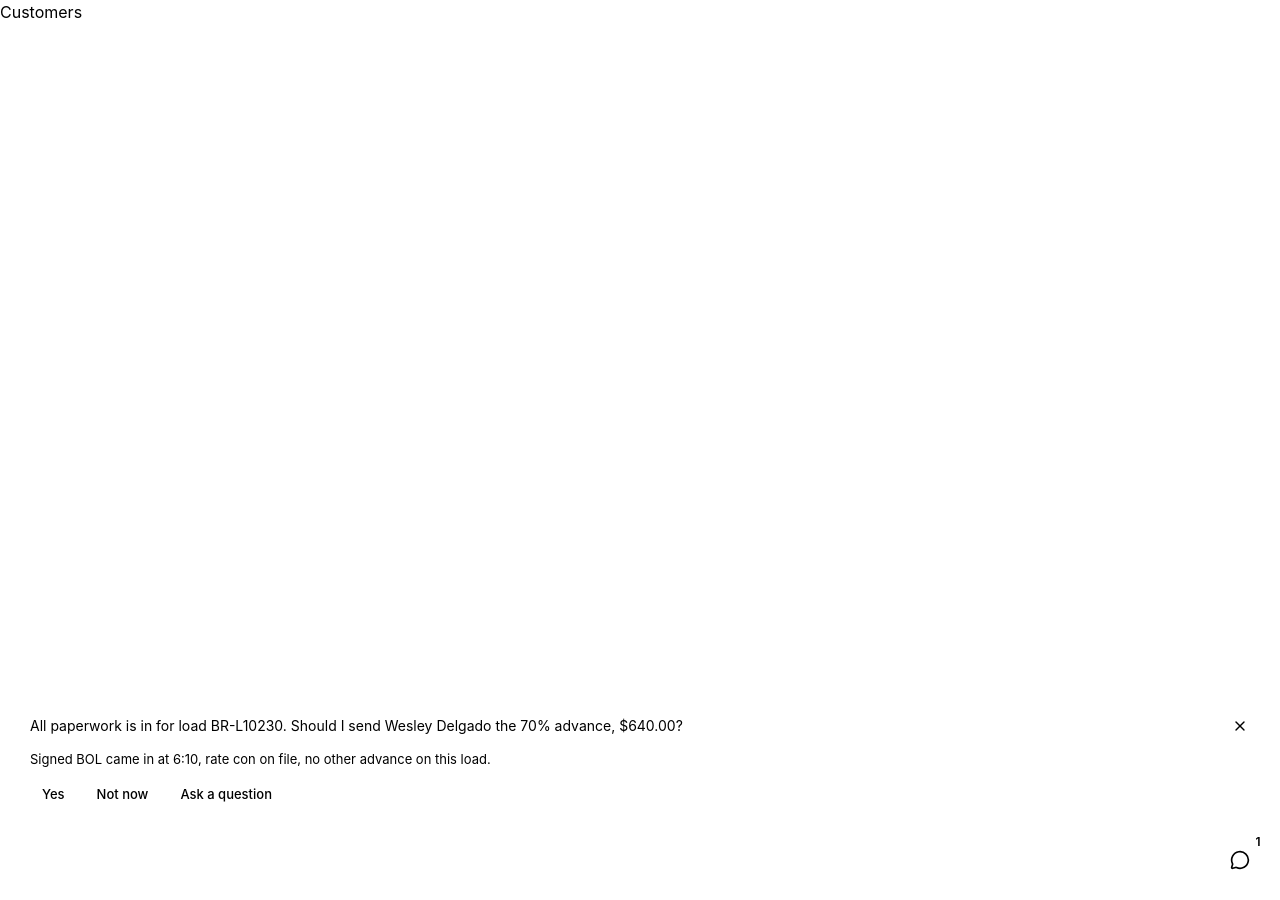
Test: the agent's questions on the launcher › opens the card on Ask a question with the load in the box, unsent
This screenshot has width=1280, height=900.
Click the button "Ask a question" at (226, 794), box [168,778,284,810]
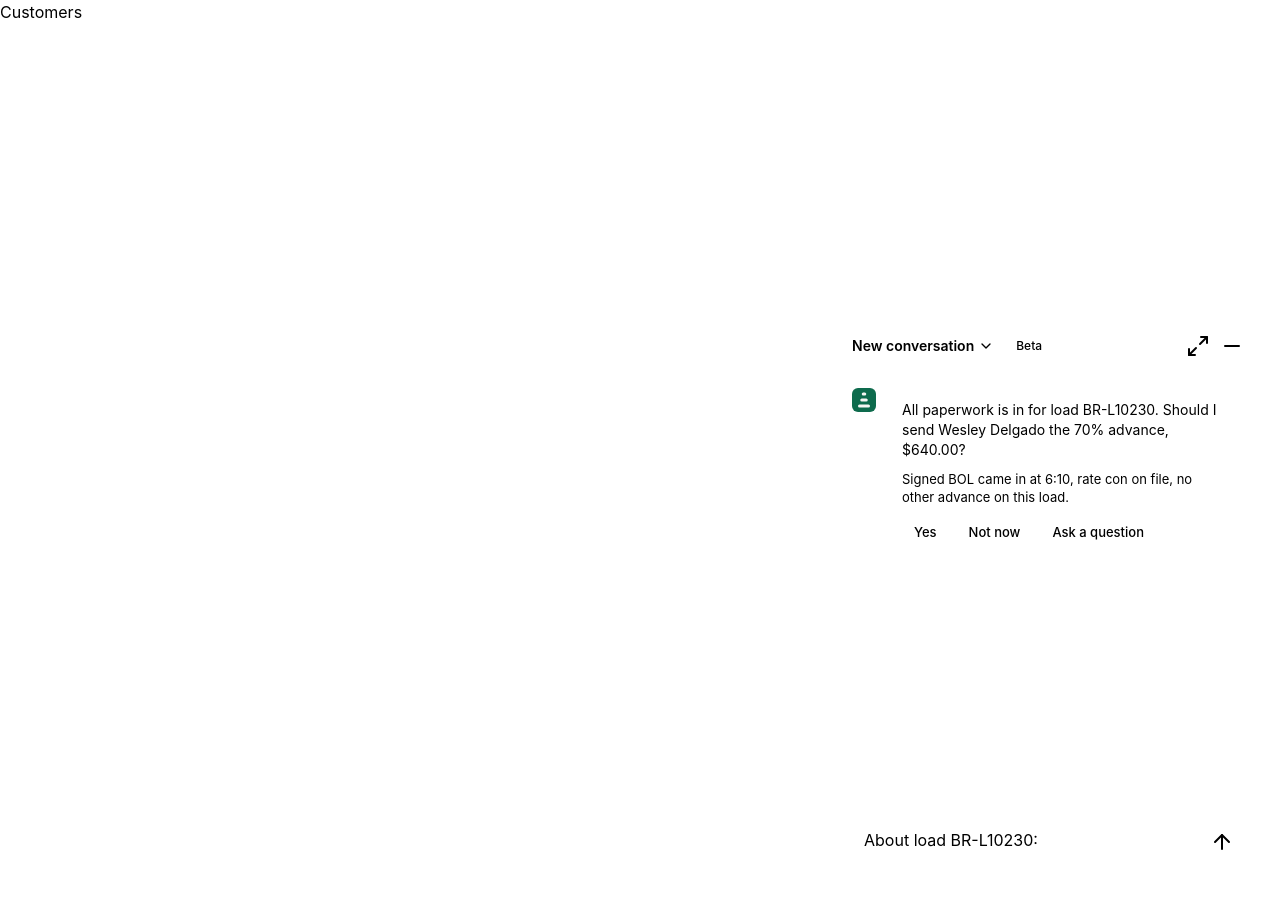
Expected: the text "All paperwork is in for load BR-L10230. Should I send Wesley Delgado the 70% advance, $640.00?" is shown, [902,401,1216,458]
Expected: the text box named "Your question" holds "About load BR-L10230: ", [854,822,1200,858]
